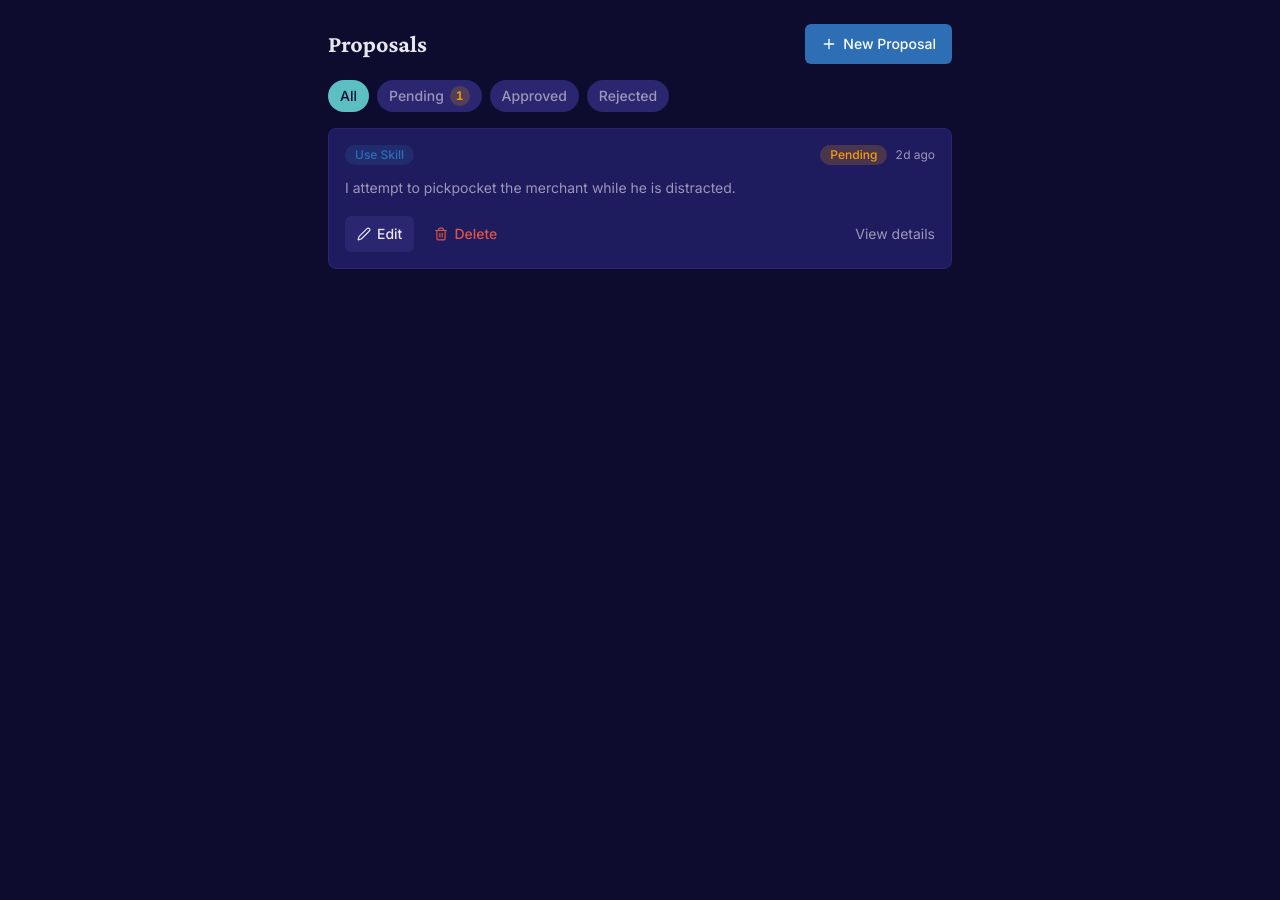
Scenario: proposals list — delete › delete failure shows error toast
This screenshot has width=1280, height=900.
Click the button with aria-label "Delete proposal" at (466, 234), box x1=422 y1=216 x2=509 y2=252
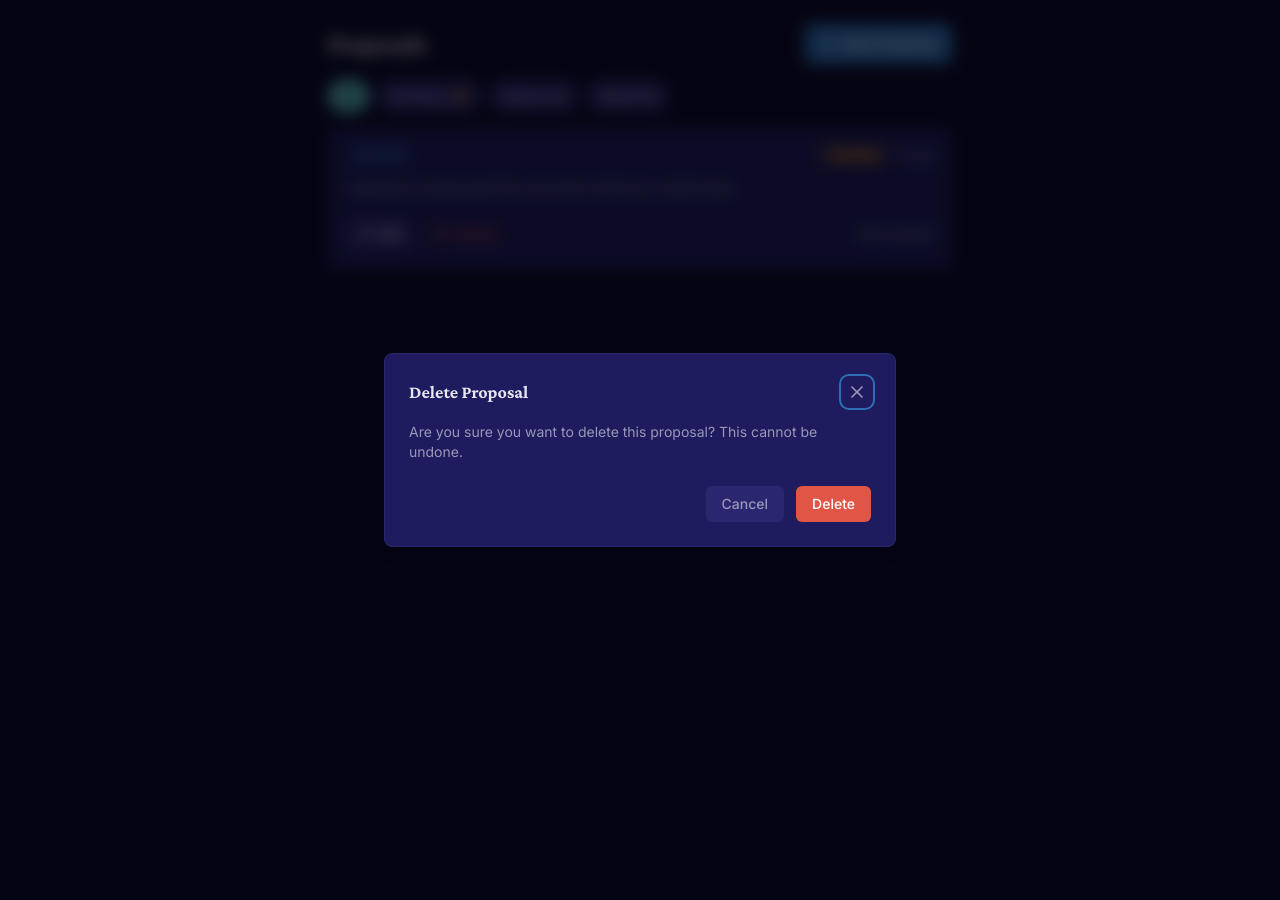
Click the button "Delete" at (834, 504), box x1=796 y1=486 x2=871 y2=522
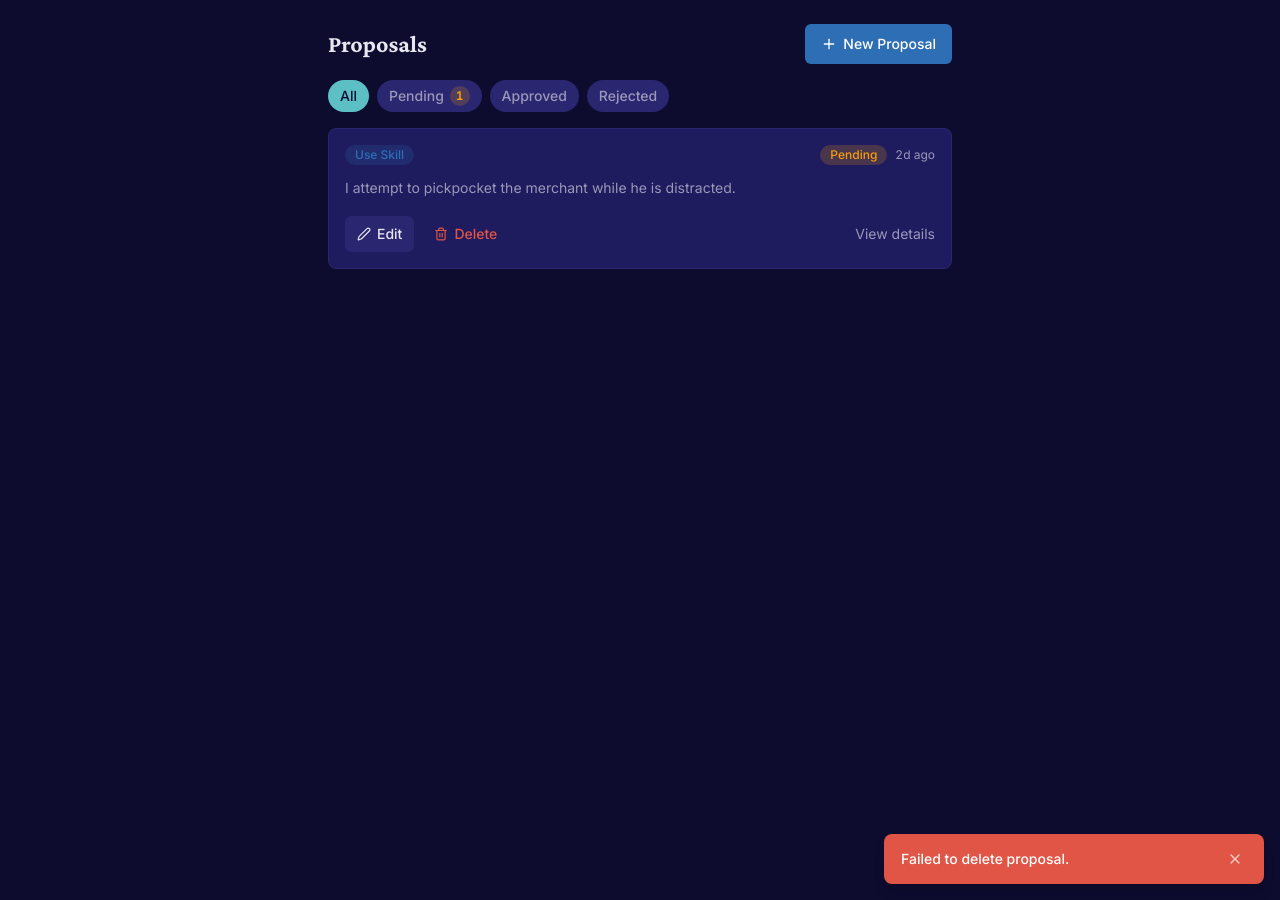
Expected: the text "Failed to delete proposal." is shown, x1=901 y1=849 x2=1069 y2=869
